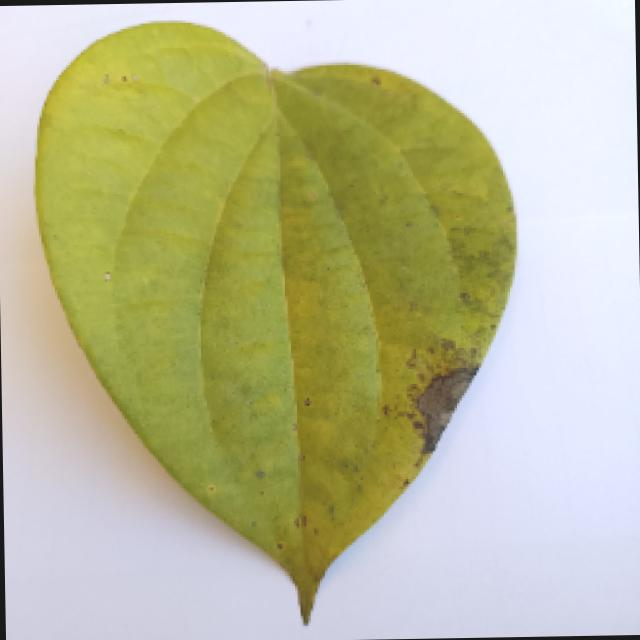slow-decline: (12, 29, 542, 630)
